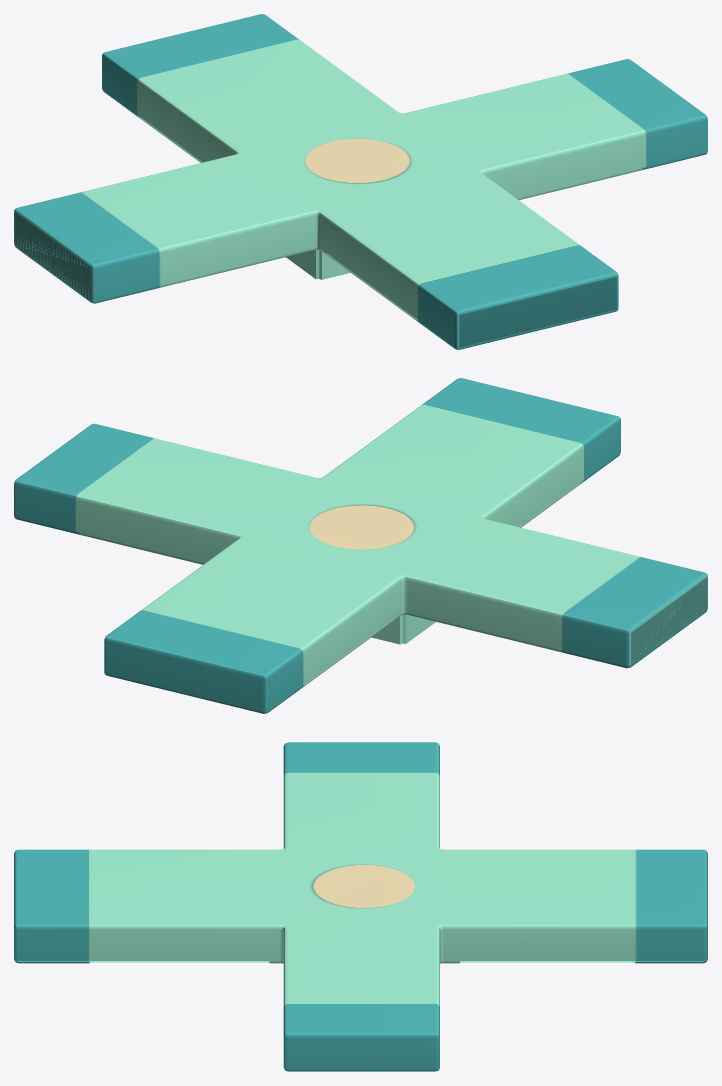
The model's file is MEC0110002.fbx.
3 renders of one model, top to bottom at view 1: azimuth 30°, elevation 25°; view 2: azimuth 150°, elevation 25°; view 3: azimuth 270°, elevation 25°, orthographic. The views are drawn at different scales.
Parts seen in each view (by area): view 1: smMEC0110002; view 2: smMEC0110002; view 3: smMEC0110002.
Part boxes in pixels (x1=…): smMEC0110002: x1=14, y1=14, x2=707, y2=349; smMEC0110002: x1=14, y1=378, x2=707, y2=713; smMEC0110002: x1=14, y1=742, x2=707, y2=1071.
Size of the model in its own units: 494 by 53.41 by 494.
1 material, 1 textured.
